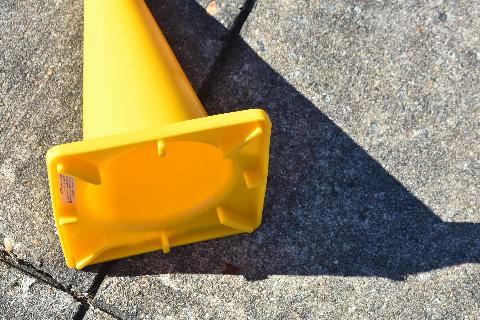cone: (45, 0, 273, 270)
